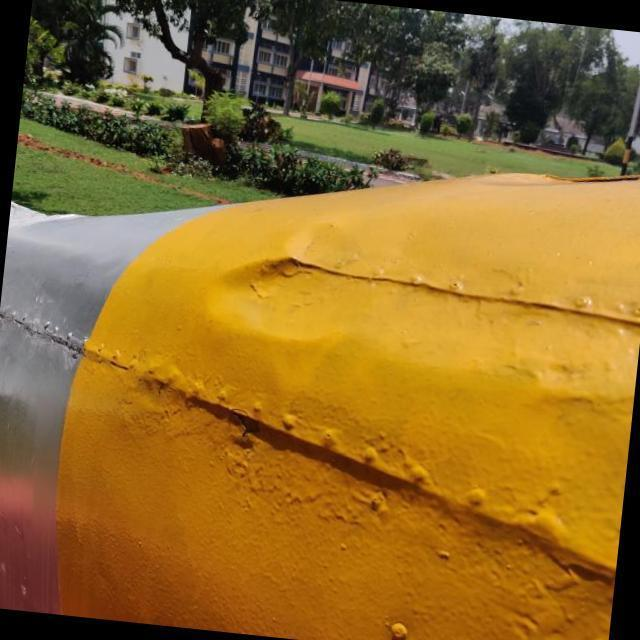dent: (204, 256, 386, 344)
